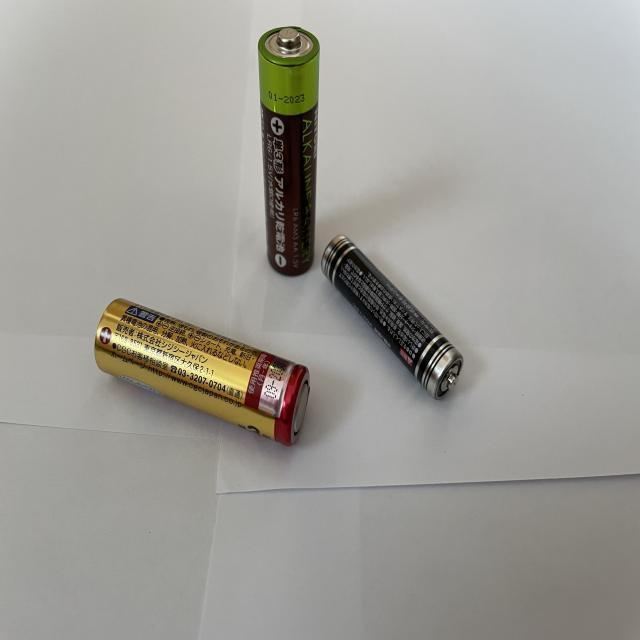hazardous waste: (93, 297, 310, 444), (320, 235, 466, 401), (257, 25, 320, 276)
